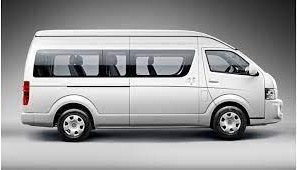van: (14, 27, 289, 149)
